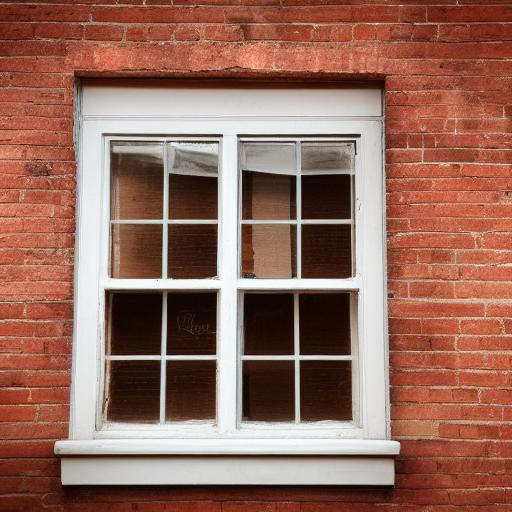Window: (54, 59, 370, 512)
